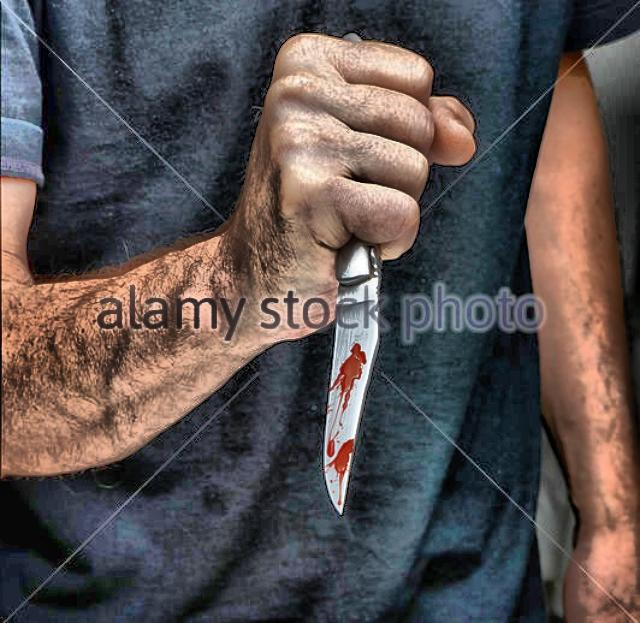knife: (284, 76, 436, 524)
